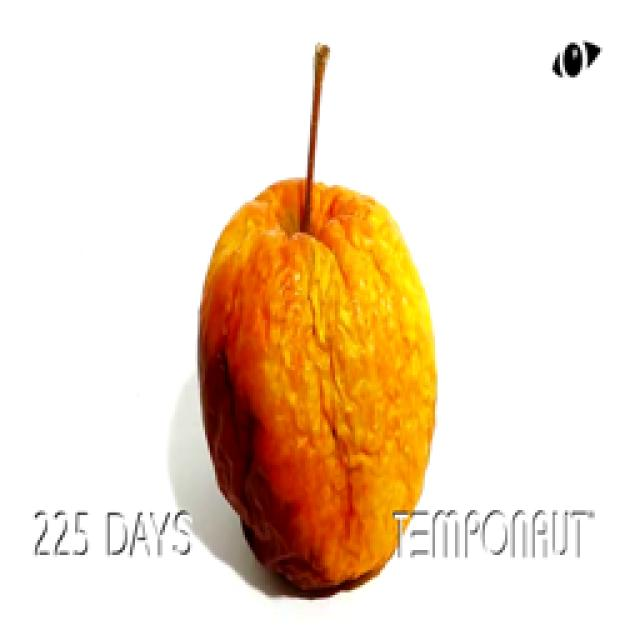Rotten_Apple: (182, 22, 456, 598)
